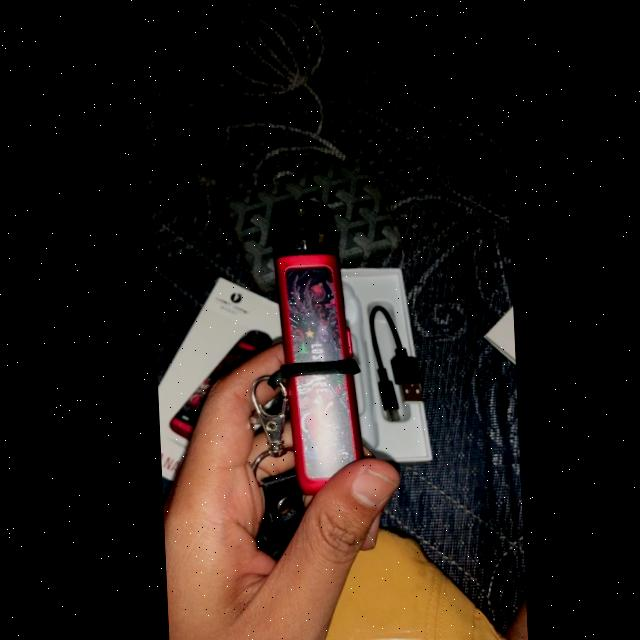vape: (266, 196, 360, 495), (160, 327, 269, 436)
